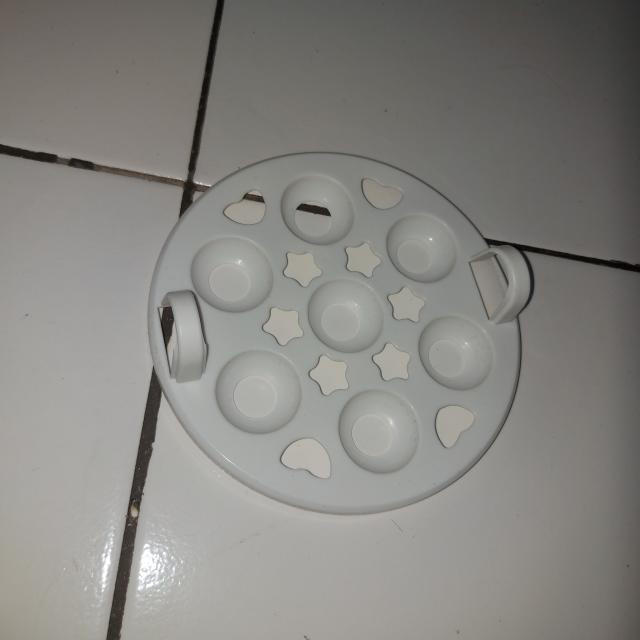Anorganik: (145, 153, 534, 514)
